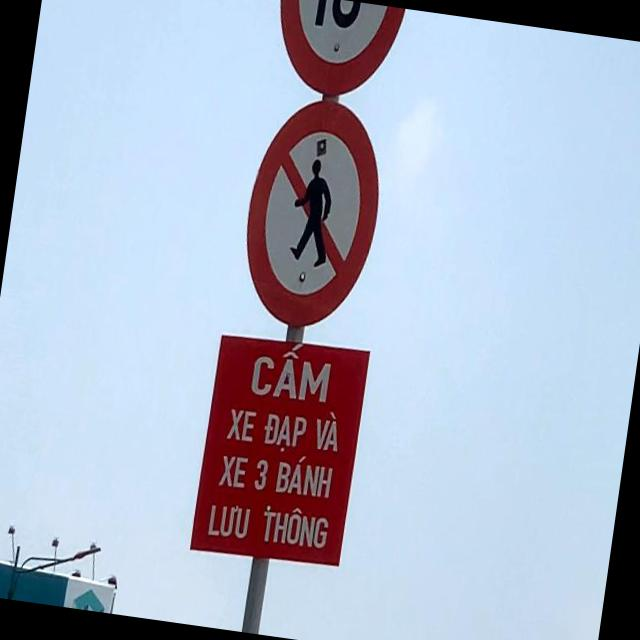P-112: (235, 92, 392, 336)
